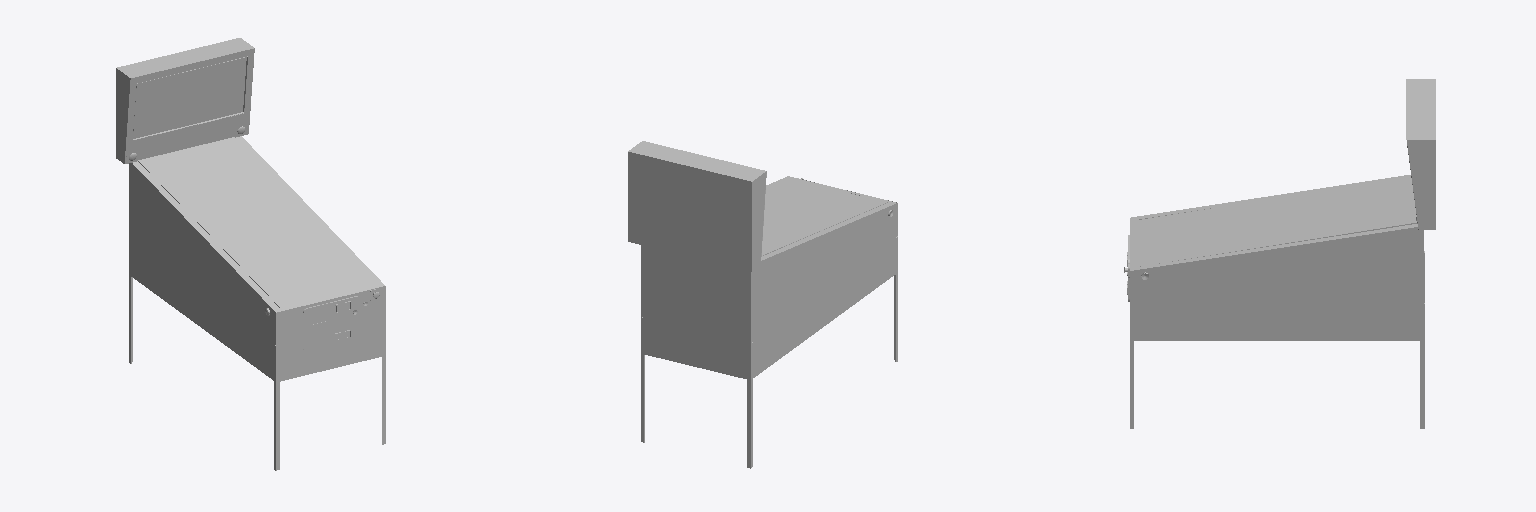
Rendered from PinballMachine_Full.obj.
3 renders of one model, left to right at view 1: azimuth 30°, elevation 25°; view 2: azimuth 150°, elevation 25°; view 3: azimuth 270°, elevation 25°, orthographic.
Parts seen in each view (by area): view 1: PinballMachine, PinballMachine Glass, PinballMachine FrontPanelMain, PinballMachine FrontPanel FrontPanelContainer, PinballMachine Legs; view 2: PinballMachine, PinballMachine Glass, PinballMachine Legs; view 3: PinballMachine, PinballMachine Glass, PinballMachine Legs.
Boxes of the visible parts, box(x1,y1,x2,y2) form: PinballMachine: box(116, 38, 384, 381); PinballMachine Glass: box(138, 137, 376, 307); PinballMachine FrontPanelMain: box(276, 286, 385, 357); PinballMachine FrontPanel FrontPanelContainer: box(303, 296, 359, 350); PinballMachine Legs: box(129, 239, 385, 470); PinballMachine: box(628, 141, 897, 378); PinballMachine Glass: box(762, 179, 887, 255); PinballMachine Legs: box(641, 236, 897, 468); PinballMachine: box(1130, 79, 1435, 340); PinballMachine Glass: box(1135, 177, 1416, 266); PinballMachine Legs: box(1130, 251, 1424, 428).
Size of the model in its own units: 244 by 549 by 529.